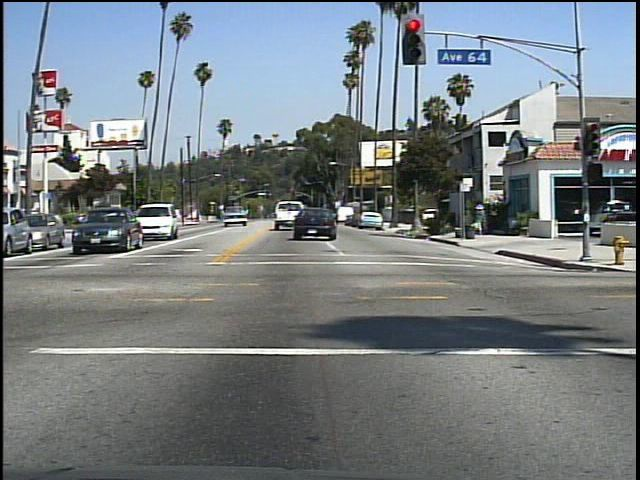person: (473, 199, 494, 241)
